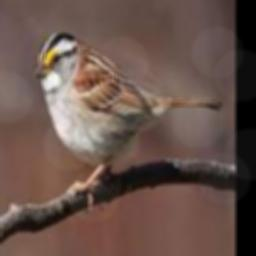Sparrow: (34, 32, 221, 212)
